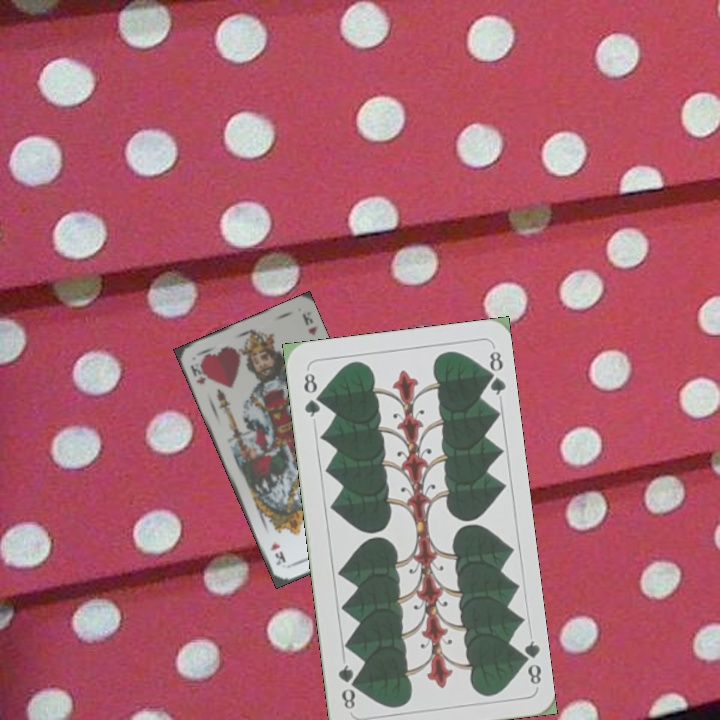G8: (514, 636, 544, 687), (299, 368, 324, 420)
HK: (186, 356, 210, 387)
